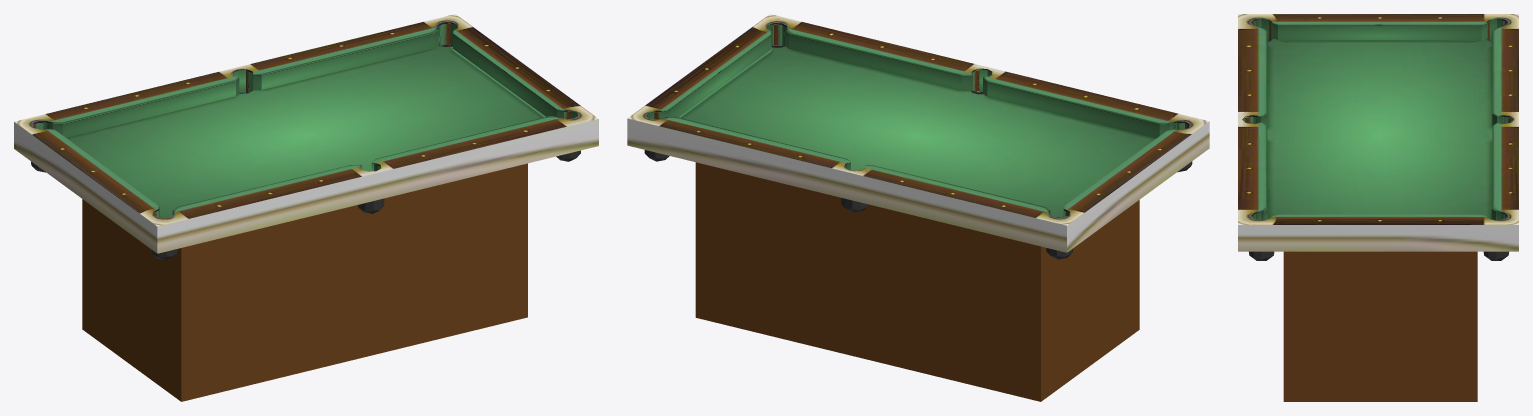
The model's file is bilistable.dae.
The picture shows the model from 3 angles, left to right: view 1: azimuth 30°, elevation 25°; view 2: azimuth 150°, elevation 25°; view 3: azimuth 270°, elevation 25°; orthographic projection. The views are drawn at different scales.
Parts seen in each view (by area): view 1: table-col, Cube; view 2: table-col, Cube; view 3: table-col, Cube.
Boxes of the visible parts, x1,y1,x2,y2 form: table-col: (14,14,598,253); Cube: (82,163,527,401); table-col: (627,14,1209,252); Cube: (695,162,1139,401); table-col: (1238,14,1518,251); Cube: (1283,251,1477,401).
Bounding box in the file's own units: 4.64 × 2.61 × 2.05.
Materials: 3 (1 with a texture image).
